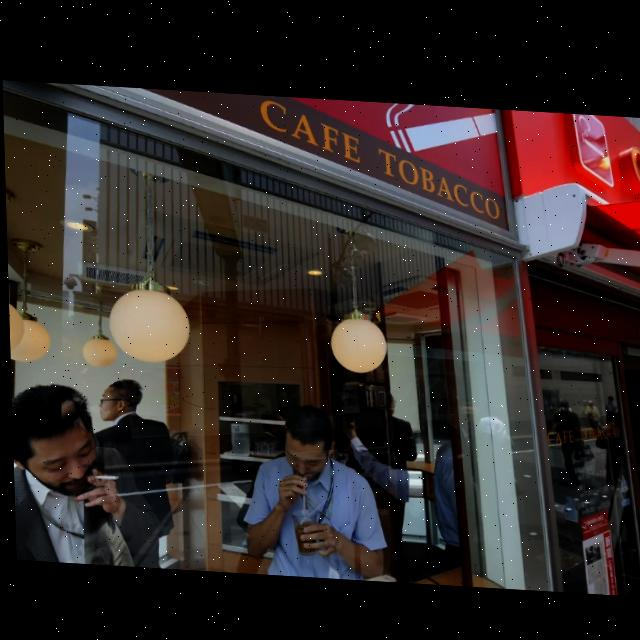cigarette: (82, 473, 116, 479)
